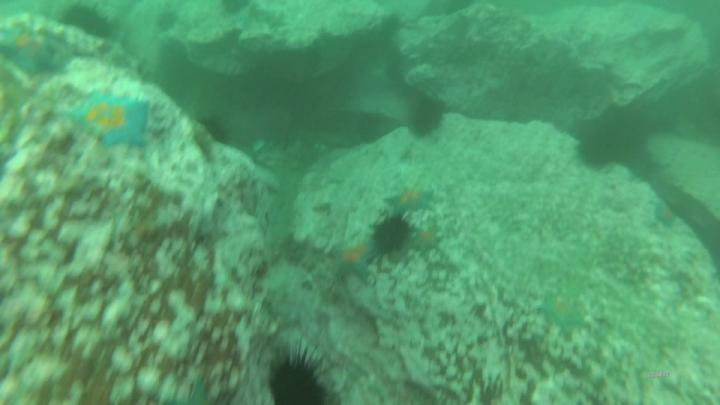echinus: (271, 364, 326, 405), (370, 221, 410, 253), (59, 7, 107, 33), (581, 138, 617, 167), (411, 101, 442, 133)
starfish: (4, 26, 56, 73), (100, 101, 151, 146), (74, 91, 127, 130), (542, 293, 586, 329), (336, 245, 374, 281), (385, 190, 434, 214), (414, 232, 442, 254), (655, 201, 679, 222)
